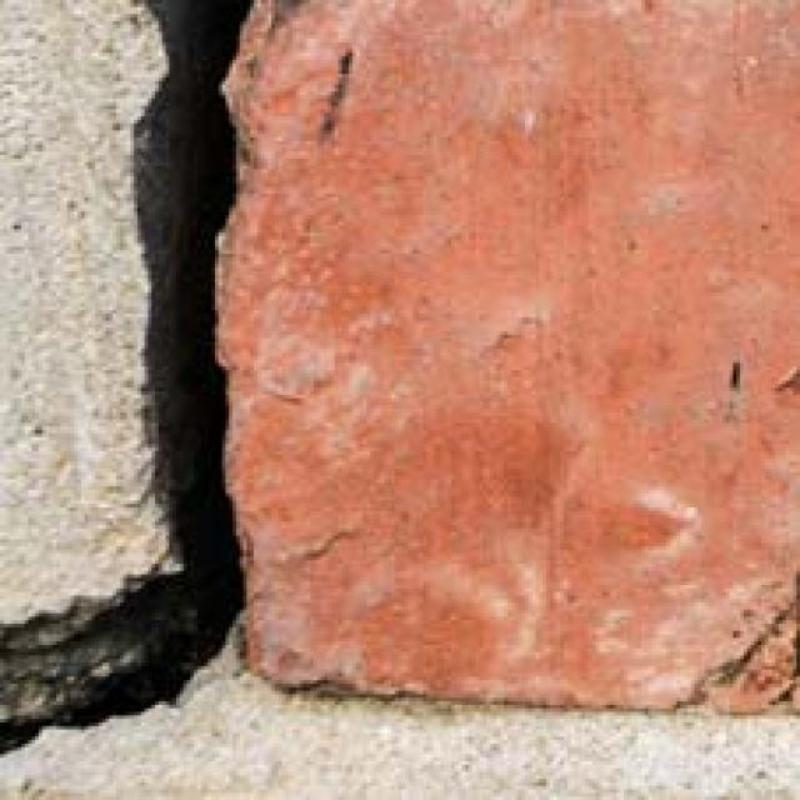pothole: (0, 0, 249, 752)
